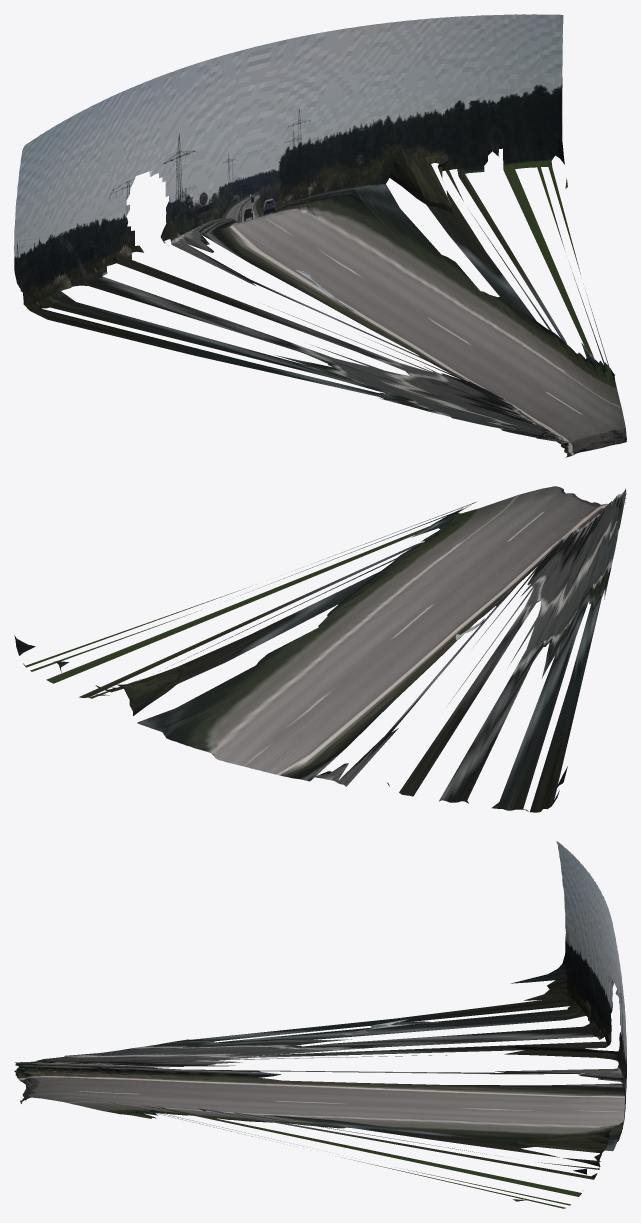
3 renders of one model, top to bottom at view 1: azimuth 30°, elevation 25°; view 2: azimuth 150°, elevation 25°; view 3: azimuth 270°, elevation 25°, orthographic. The views are drawn at different scales.
Visible parts, largest first — view 1: defaultobject; view 2: defaultobject; view 3: defaultobject.
Part boxes in pixels (bbox=[...]): defaultobject: bbox=[14, 14, 626, 457]; defaultobject: bbox=[14, 486, 626, 812]; defaultobject: bbox=[14, 841, 626, 1208].
Size of the model in its own units: 41.14 by 13.3 by 44.83.
Materials: 1 (1 with a texture image).
